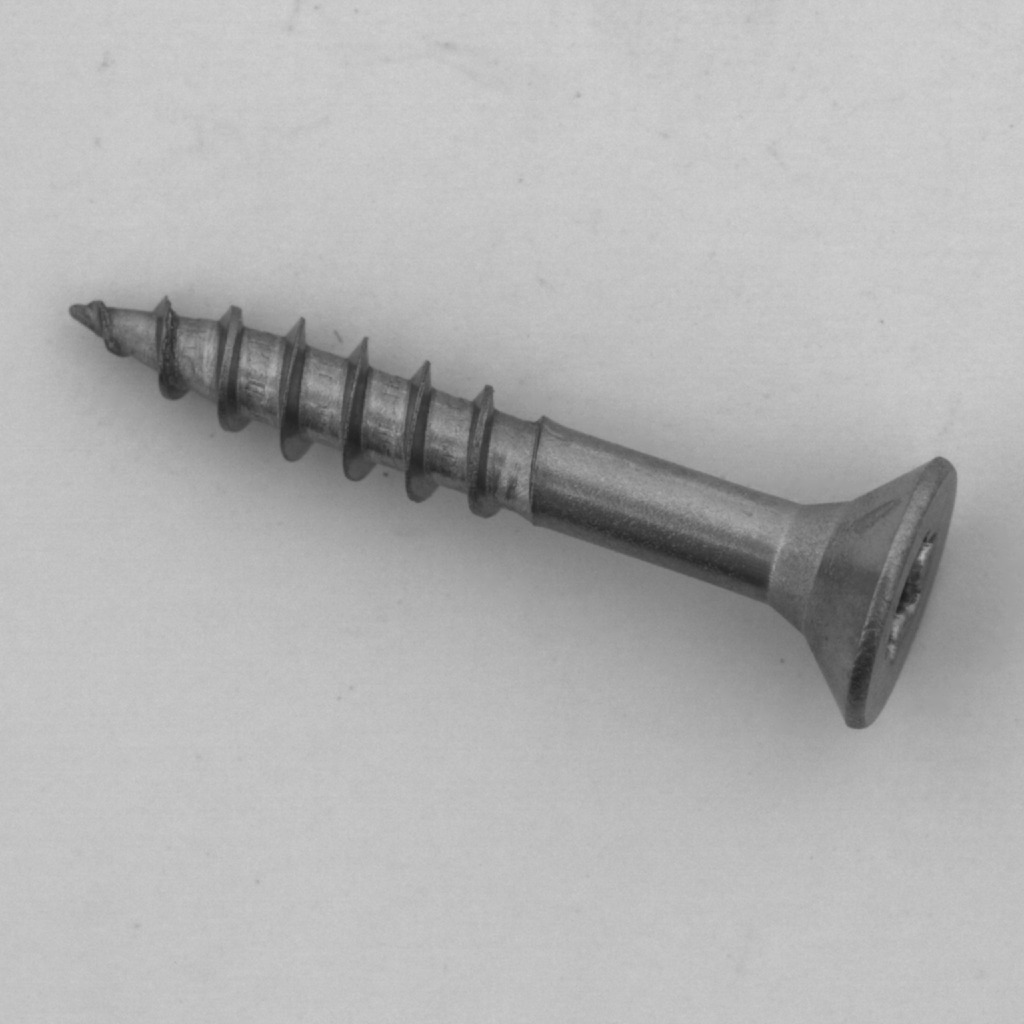good: (49, 273, 973, 749)
